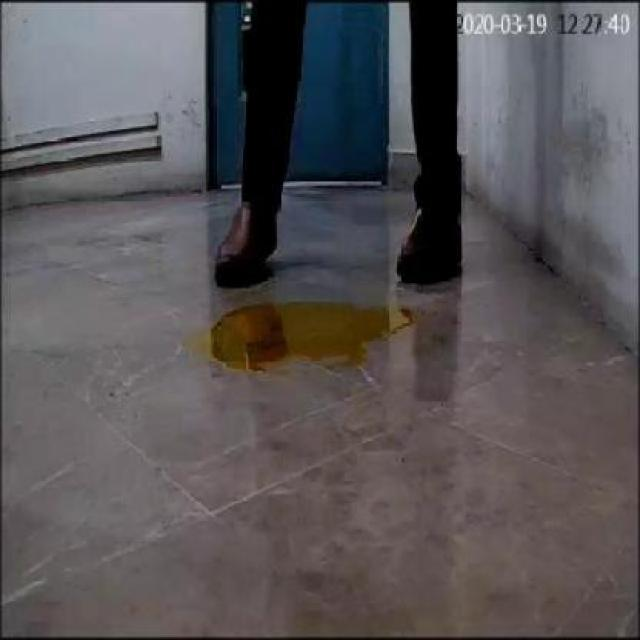spillage: (209, 303, 396, 373)
